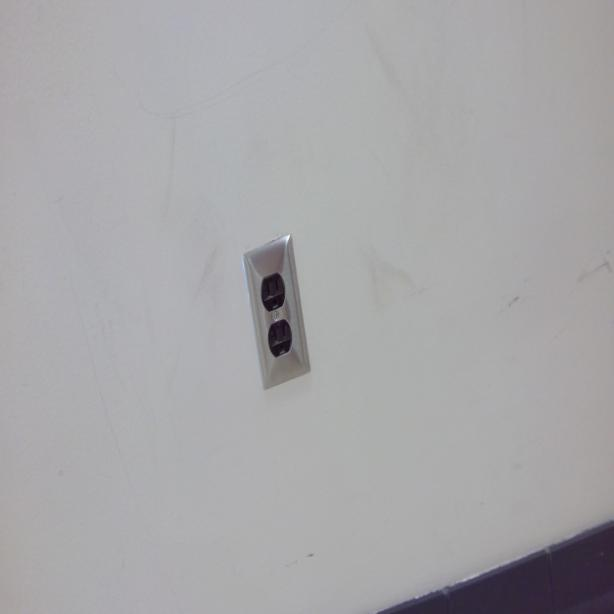typeb: (261, 274, 286, 312), (267, 323, 292, 357)
